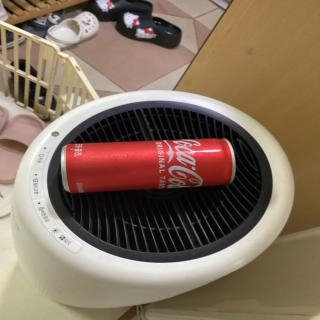cocacola: (56, 139, 240, 191)
